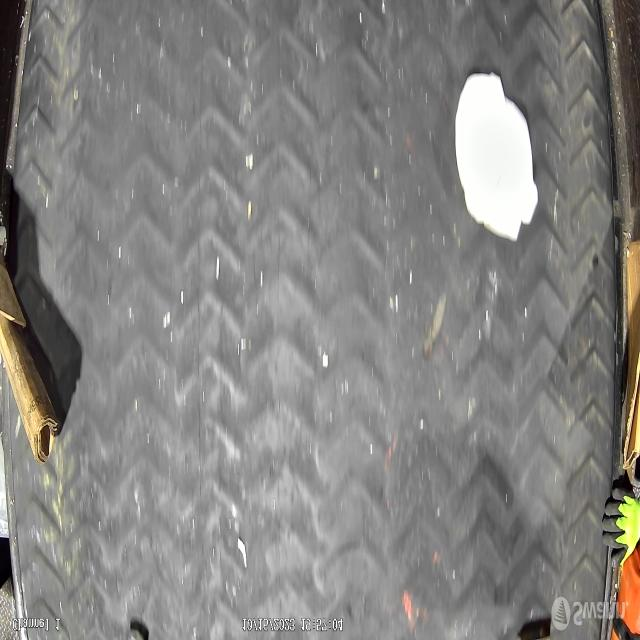milk_jug: (454, 59, 538, 253)
